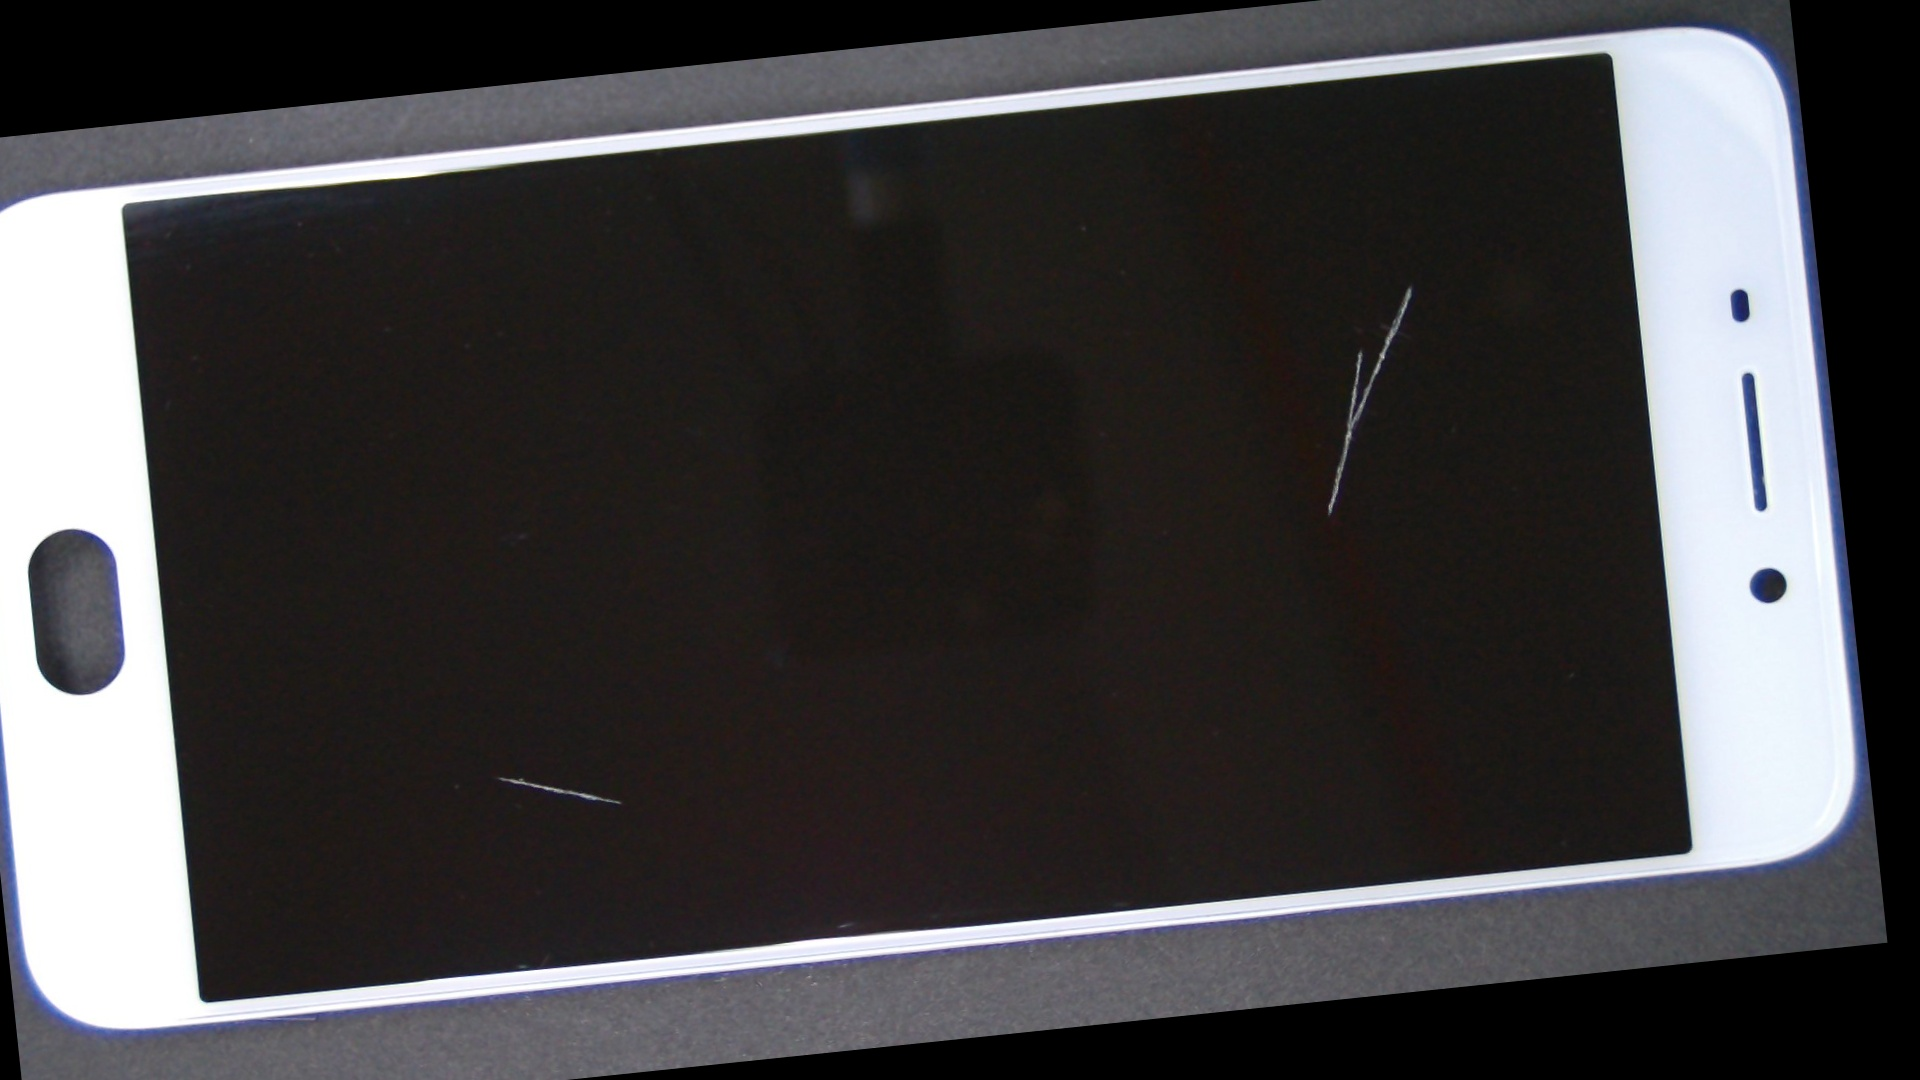oil: (669, 96, 1830, 509), (212, 407, 782, 1080)
